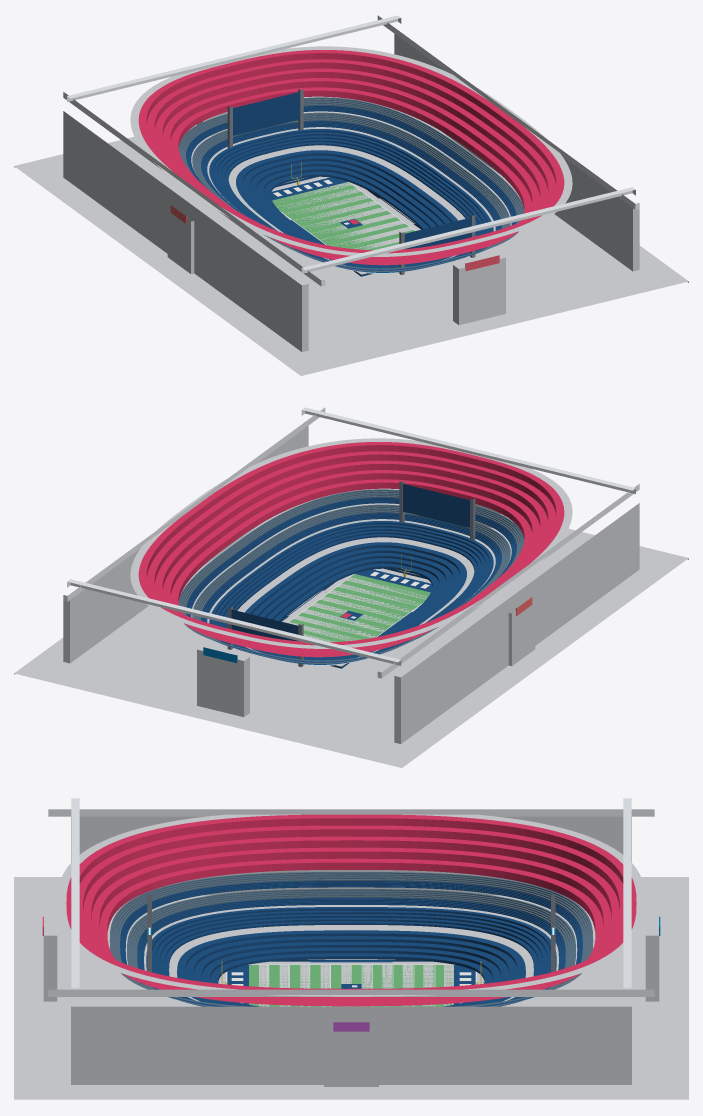
Rendered from nrg-stadium.glb.
3 views of the same model, one above another, from view 1: azimuth 30°, elevation 25°; view 2: azimuth 150°, elevation 25°; view 3: azimuth 270°, elevation 25° (orthographic). The views are drawn at different scales.
Parts seen in each view (by area): view 1: Node_Plaza_Ground, Node_Bowl_500_UpperRed, Node_Ext_Wall_W, Node_Bowl_100_Lower, Node_Bowl_200_Club, Node_Ext_Wall_E, Node_Upper_Rim, Node_Suites_400_Glass, Node_Suites_300_Glass, Node_Gate_Kroger_Tower, Node_Suites_300_Balcony, Node_Suites_400_Balcony (+10 smaller); view 2: Node_Plaza_Ground, Node_Bowl_500_UpperRed, Node_Ext_Wall_W, Node_Bowl_100_Lower, Node_Bowl_200_Club, Node_Ext_Wall_E, Node_Upper_Rim, Node_Suites_400_Glass, Node_Suites_300_Glass, Node_Gate_Ford_Tower, Node_Suites_300_Balcony, Node_Suites_400_Balcony (+10 smaller); view 3: Node_Plaza_Ground, Node_Ext_Wall_E, Node_Bowl_500_UpperRed, Node_Bowl_100_Lower, Node_Bowl_200_Club, Node_Suites_400_Glass, Node_Suites_300_Glass, Node_Upper_Rim, Node_Ext_Wall_W, Node_Roof_Rail_94, Node_Roof_Rail_-94, Node_Suites_400_Balcony (+8 smaller).
Boxes of the visible parts, x1,y1,x2,y2 form: Node_Plaza_Ground: (14, 96, 688, 375); Node_Bowl_500_UpperRed: (138, 50, 564, 265); Node_Ext_Wall_W: (63, 111, 308, 351); Node_Bowl_100_Lower: (236, 150, 457, 268); Node_Bowl_200_Club: (209, 129, 493, 272); Node_Ext_Wall_E: (394, 34, 639, 271); Node_Upper_Rim: (130, 46, 572, 256); Node_Suites_400_Glass: (178, 97, 524, 269); Node_Suites_300_Glass: (192, 112, 510, 271); Node_Gate_Kroger_Tower: (453, 257, 505, 325); Node_Suites_300_Balcony: (201, 121, 501, 272); Node_Suites_400_Balcony: (186, 105, 516, 270); Node_Plaza_Ground: (14, 488, 688, 767); Node_Bowl_500_UpperRed: (138, 442, 564, 657); Node_Ext_Wall_W: (394, 503, 639, 743); Node_Bowl_100_Lower: (245, 542, 466, 660); Node_Bowl_200_Club: (209, 521, 493, 664); Node_Ext_Wall_E: (63, 426, 308, 663); Node_Upper_Rim: (130, 438, 572, 648); Node_Suites_400_Glass: (178, 489, 524, 661); Node_Suites_300_Glass: (192, 504, 510, 663); Node_Gate_Ford_Tower: (197, 649, 249, 717); Node_Suites_300_Balcony: (201, 513, 501, 664); Node_Suites_400_Balcony: (186, 497, 516, 662); Node_Plaza_Ground: (14, 877, 688, 1099); Node_Ext_Wall_E: (71, 1006, 631, 1084); Node_Bowl_500_UpperRed: (66, 814, 636, 1006); Node_Bowl_100_Lower: (177, 930, 525, 1006); Node_Bowl_200_Club: (146, 907, 556, 1000); Node_Suites_400_Glass: (109, 872, 593, 1006); Node_Suites_300_Glass: (127, 889, 575, 1006); Node_Upper_Rim: (57, 814, 645, 996); Node_Ext_Wall_W: (71, 816, 631, 895); Node_Roof_Rail_94: (48, 989, 654, 996); Node_Roof_Rail_-94: (48, 809, 654, 816); Node_Suites_400_Balcony: (120, 881, 582, 1006).
Bounding box in the file's own units: 231 × 47 × 296.
